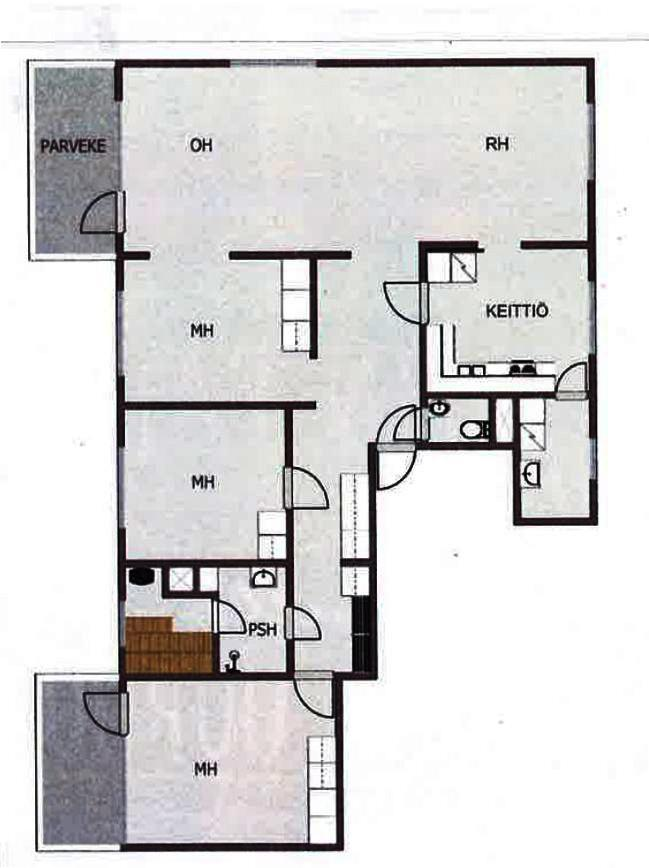bathroom: (217, 564, 285, 668), (426, 395, 495, 443)
door: (78, 689, 136, 741), (76, 191, 129, 244), (381, 275, 434, 326), (289, 668, 335, 722), (282, 466, 332, 514), (374, 442, 419, 490), (374, 404, 415, 450), (554, 360, 595, 403), (283, 601, 323, 645), (394, 403, 433, 442)
perimeter: (110, 60, 600, 852)
window: (108, 282, 130, 386), (224, 55, 322, 75), (111, 92, 129, 198), (111, 439, 130, 537), (582, 93, 601, 186), (584, 272, 600, 363), (583, 427, 601, 484), (112, 590, 129, 648)
